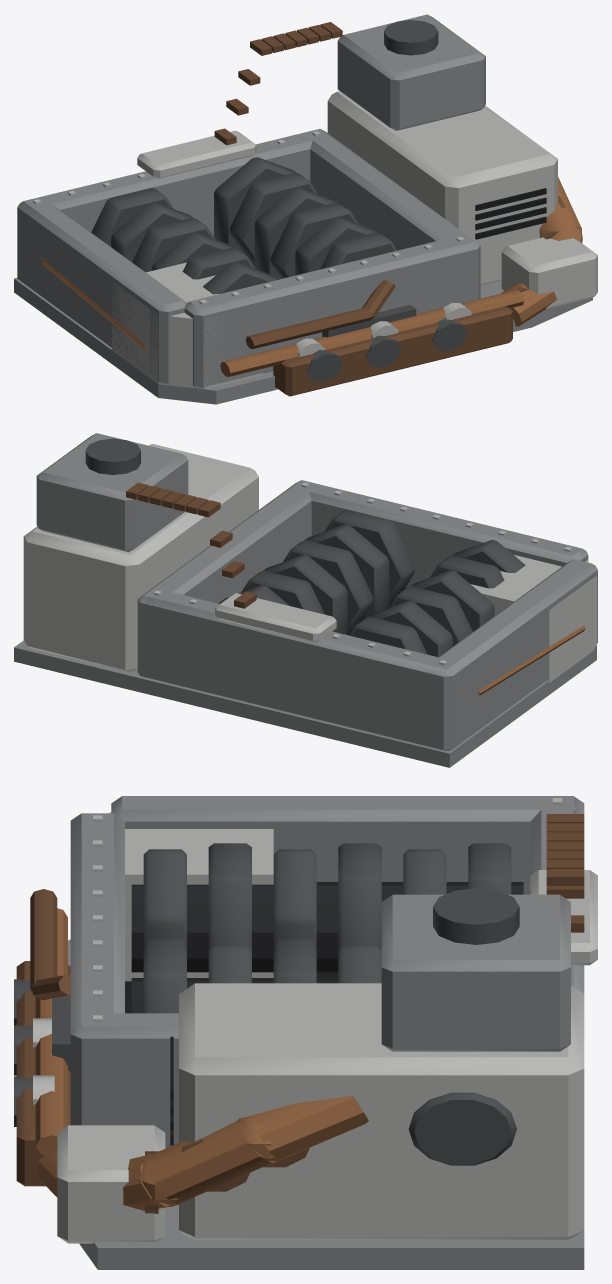
Rendered from crusher-east.glb.
3 renders of one model, top to bottom at view 1: azimuth 30°, elevation 25°; view 2: azimuth 150°, elevation 25°; view 3: azimuth 270°, elevation 25°, orthographic. The views are drawn at different scales.
Parts seen in each view (by area): view 1: body, anim_roll_crusher_e, anim_roll_crusher_w; view 2: body, anim_roll_crusher_e, anim_roll_crusher_w; view 3: body, anim_roll_crusher_w, anim_roll_crusher_e.
Part boxes in pixels (x1,y1,x2,y2): body: (14,14,597,404); anim_roll_crusher_e: (214,157,397,279); anim_roll_crusher_w: (91,188,277,294); body: (14,433,597,767); anim_roll_crusher_e: (218,509,414,635); anim_roll_crusher_w: (349,540,525,657); body: (14,796,597,1269); anim_roll_crusher_w: (131,843,523,972); anim_roll_crusher_e: (131,939,381,1013).
Size of the model in its own units: 3.01 by 1.28 by 2.16.
